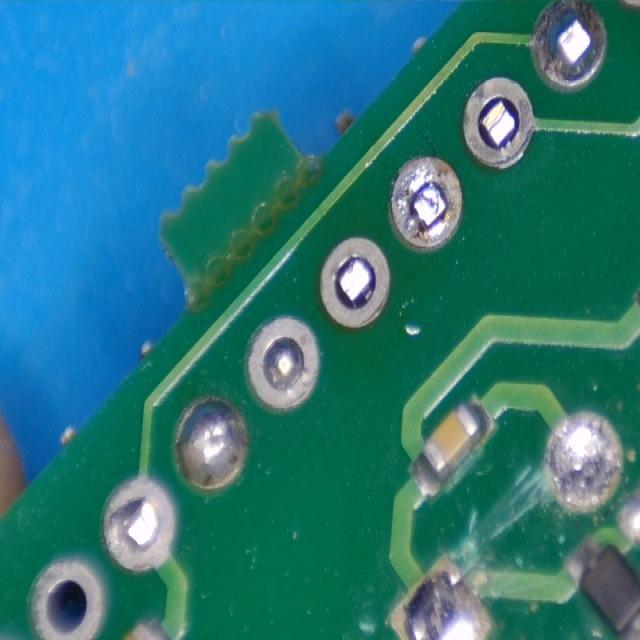Dry_joint: (104, 480, 175, 570), (392, 157, 462, 247), (175, 399, 245, 489), (248, 318, 318, 407), (551, 419, 619, 506)
